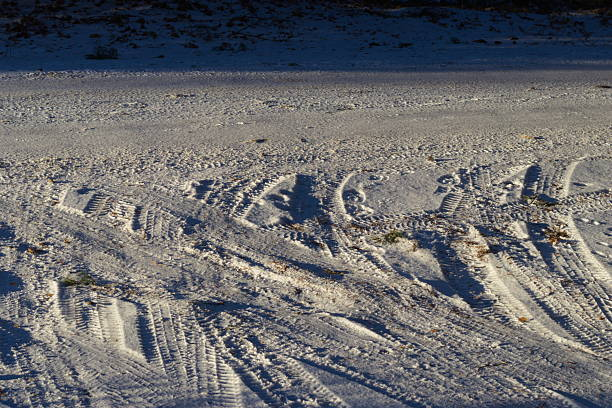vehicle_track: (0, 163, 608, 406), (58, 286, 241, 407), (202, 308, 419, 405), (502, 162, 609, 354), (523, 162, 610, 354), (437, 230, 577, 342), (265, 329, 460, 405), (91, 315, 241, 406), (202, 311, 344, 406), (13, 329, 174, 407), (527, 215, 611, 354), (527, 223, 611, 355), (488, 243, 587, 349), (142, 302, 241, 407), (223, 336, 346, 406), (435, 228, 522, 324), (62, 337, 176, 406), (50, 281, 143, 359), (479, 333, 574, 405), (57, 188, 184, 239), (185, 174, 289, 217), (563, 217, 610, 294), (14, 350, 64, 407), (230, 175, 287, 218), (522, 160, 573, 198), (557, 190, 611, 214), (439, 191, 470, 215), (184, 180, 216, 201), (0, 221, 15, 246)
